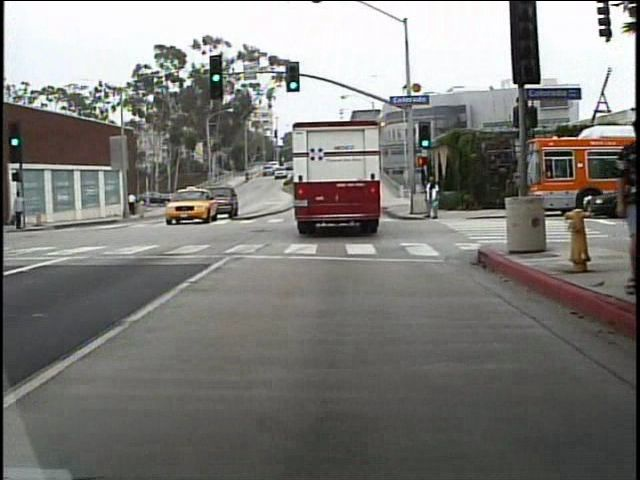person: (420, 175, 445, 222), (15, 189, 30, 232), (125, 187, 141, 220)
